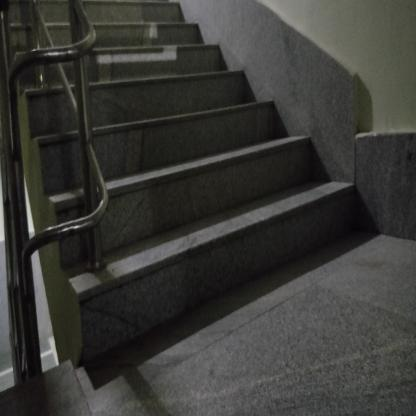stairs: (111, 64, 246, 341)
